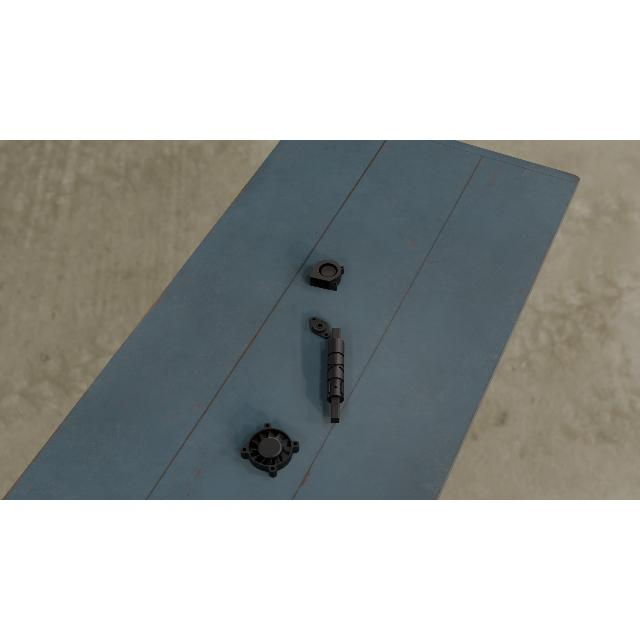Pieza1: (327, 326, 345, 426)
Pieza2: (304, 313, 336, 342)
Pieza3: (309, 256, 345, 292)
Pieza4: (238, 420, 302, 480)
